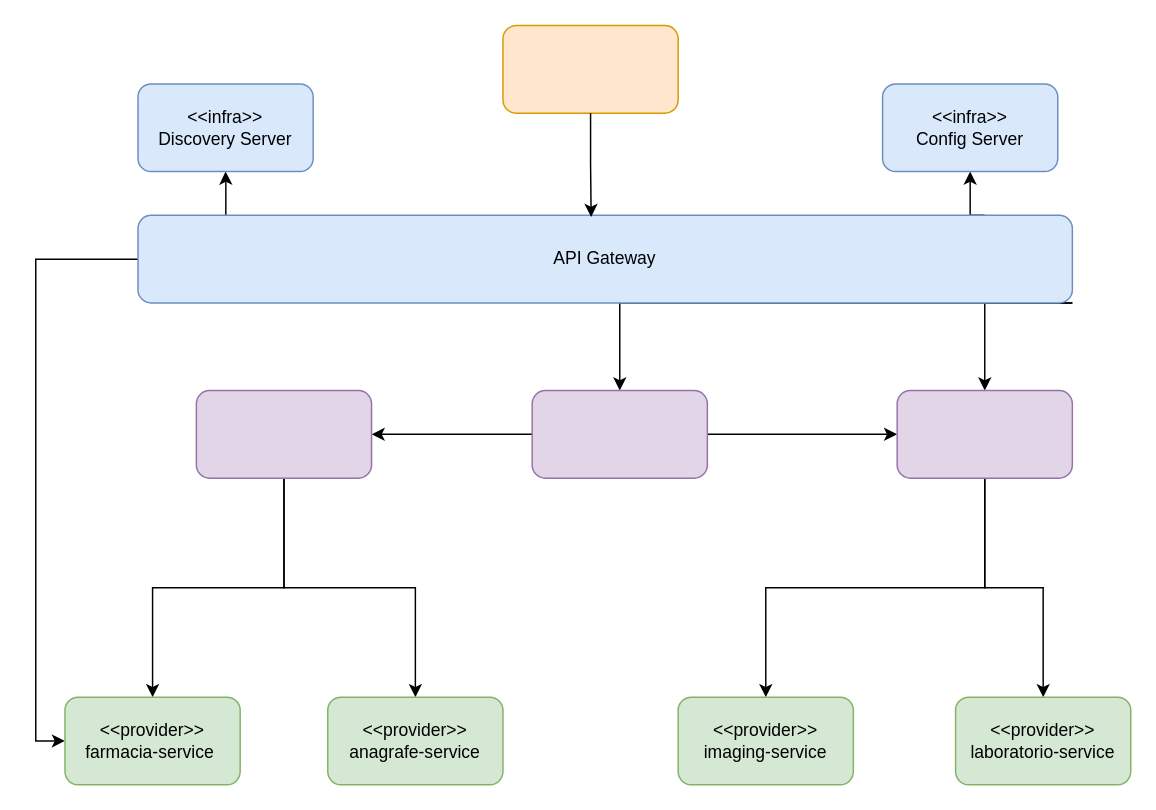
The diagram is 1156 pixels wide and 810 high, and some of its shapes have lost their labels. The shapes that lost their labels are listed below. From the top down, each one's box as (x1, y1, x2, y2) in pixels, then its label:
(502, 24, 678, 113): <<client>> WebApp
(195, 389, 372, 478): <<prosumer>> Clinical Aggregator
(531, 389, 707, 478): <<prosumer>> Care Coordinator
(896, 389, 1072, 478): <<prosumer>> Diagnostic Aggregator
